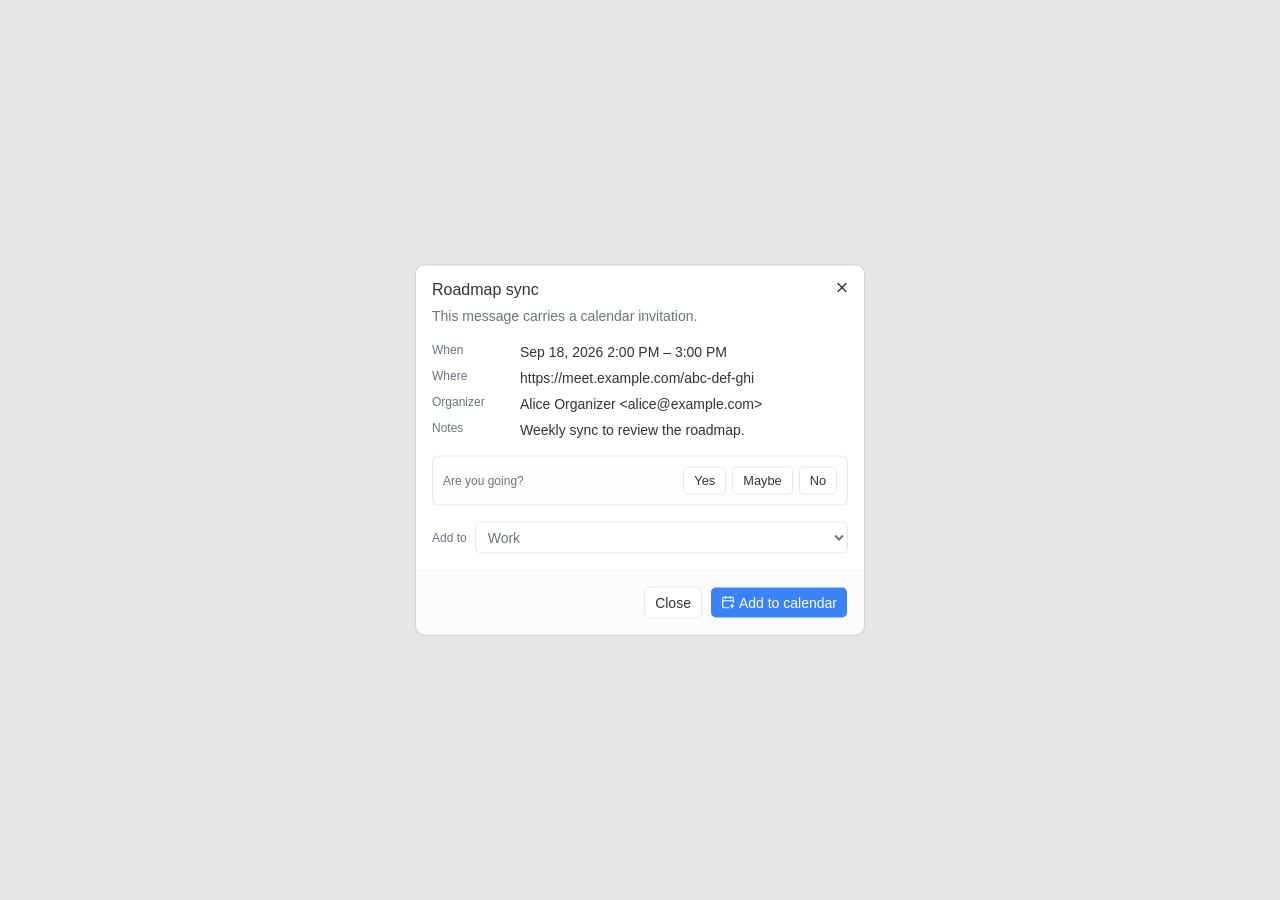
Test case: IcsPreviewDialog invitation (METHOD:REQUEST) › shows the Yes/No/Maybe row for a REQUEST and routes the response
Click the button with test id "ics-rsvp-maybe" at (762, 480), box [732,466,793,494]
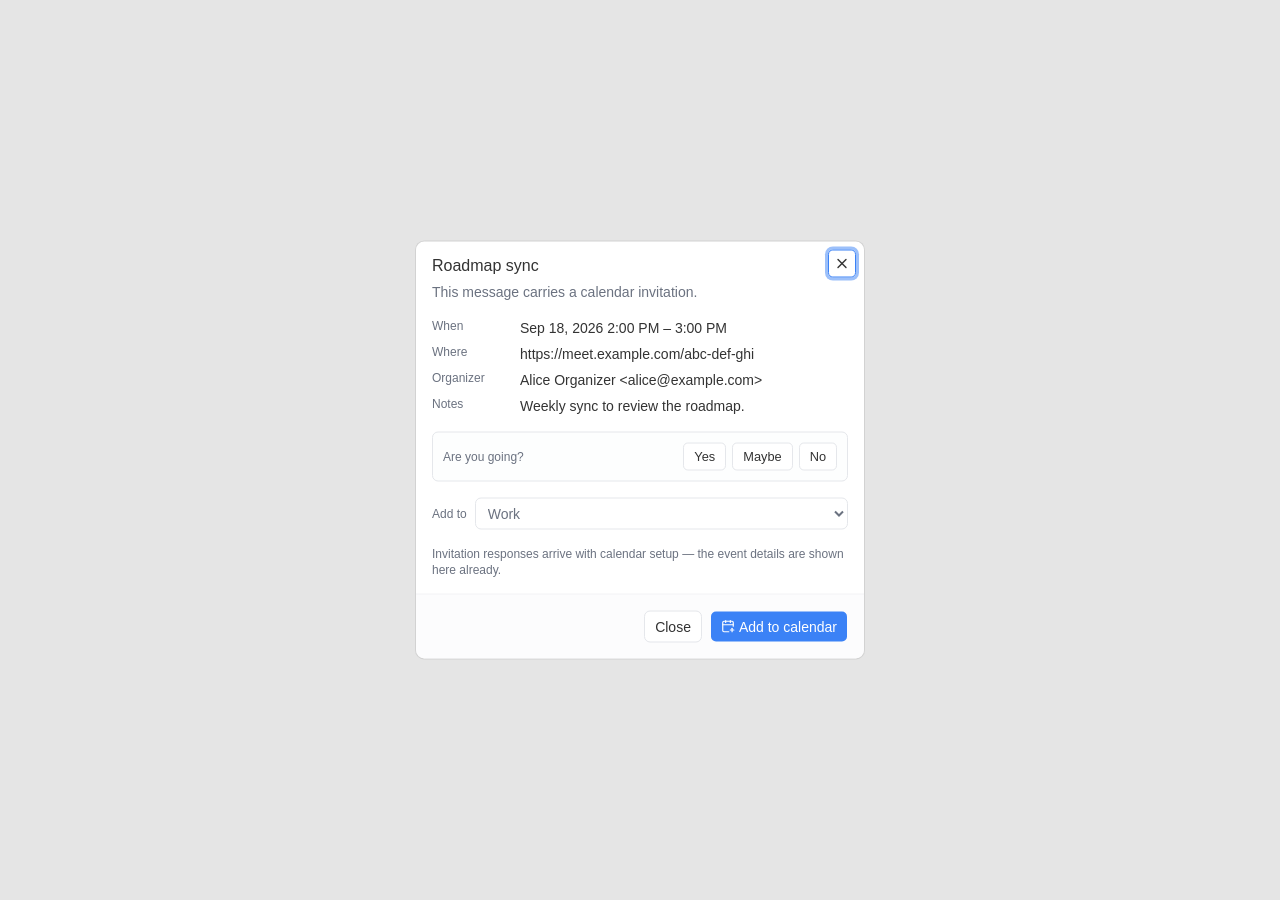
Expected: the message with test id "ics-add-status" is shown, [432,546,848,578]
Expected: the message with test id "ics-add-status" shows "Invitation responses arrive with calendar setup", [432,546,844,576]
